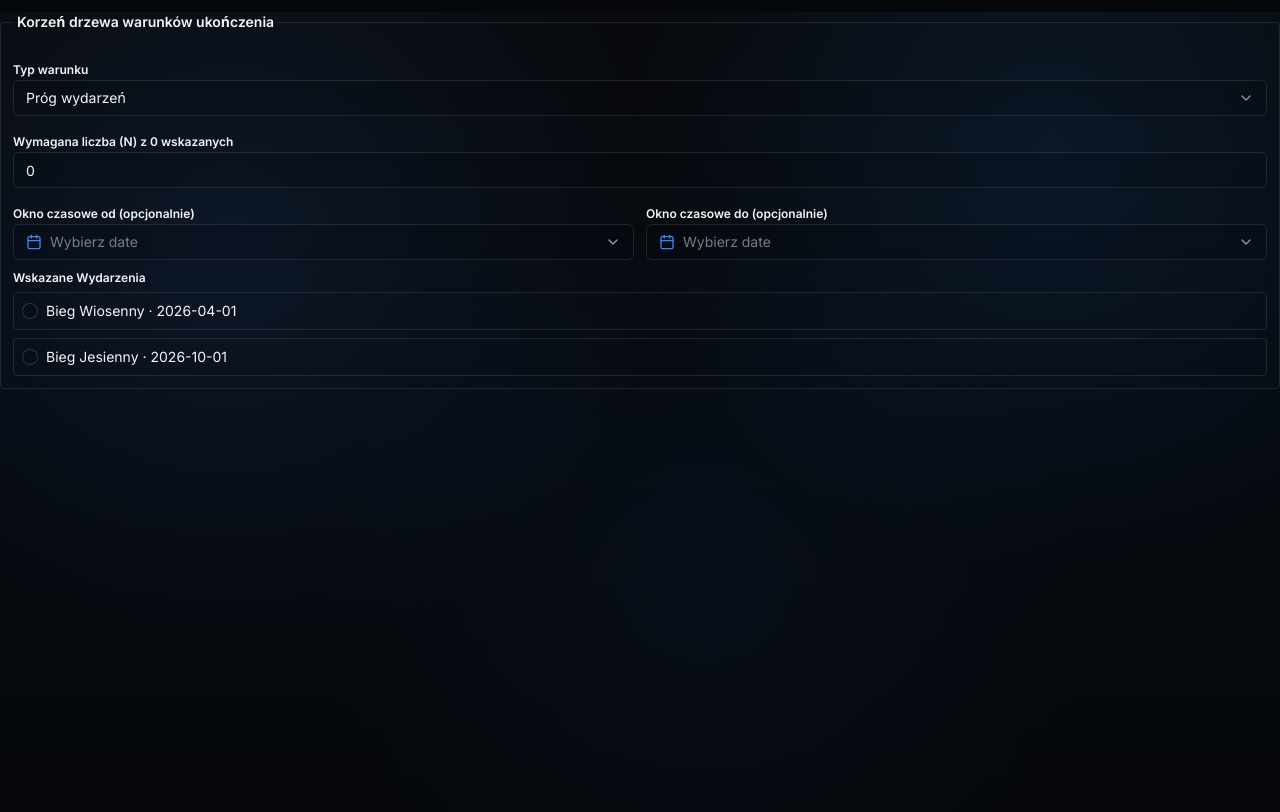
ChallengeConditionTreeEditor › switching node type to sub_challenge_threshold only offers already-saved challenges
Click the dropdown named "Typ warunku" at (76, 98), box top-left (13, 80), bottom-right (1267, 116)
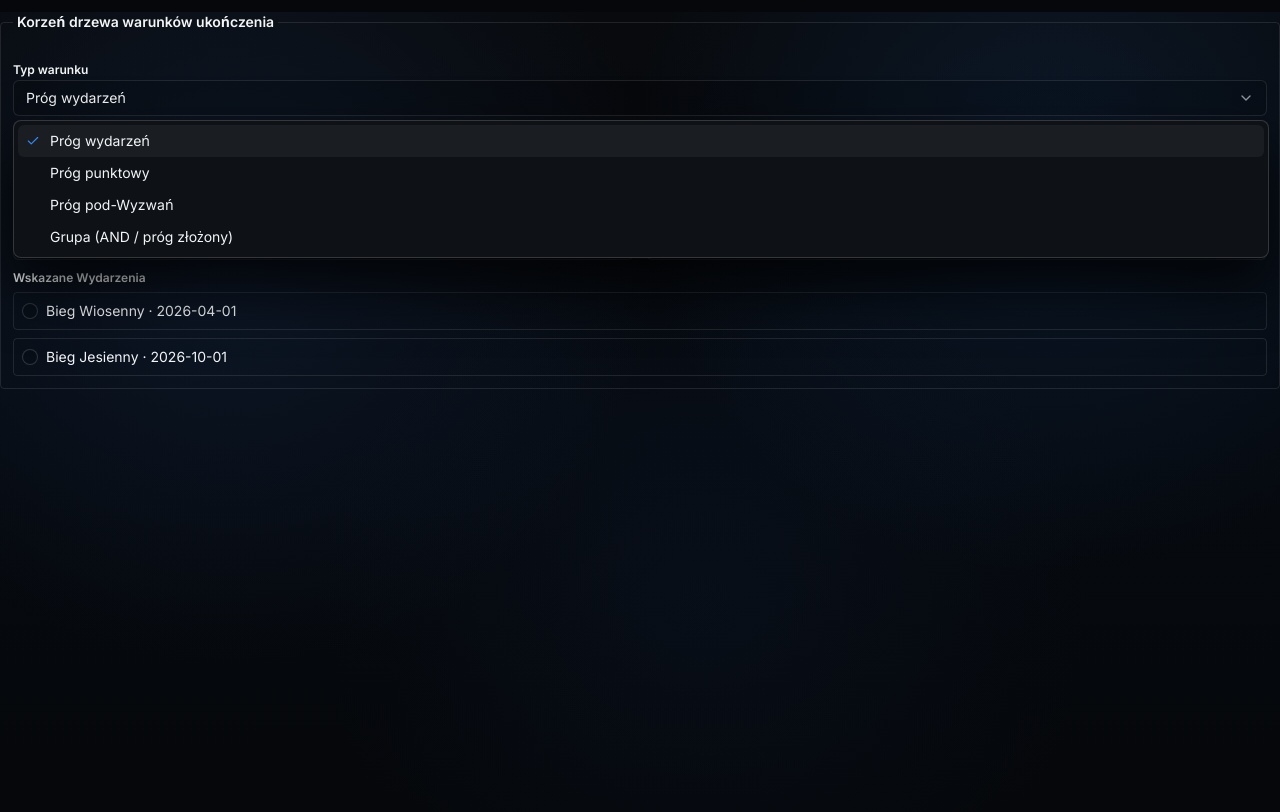
Click the option "Próg pod-Wyzwań" at (112, 204), box top-left (50, 196), bottom-right (174, 213)
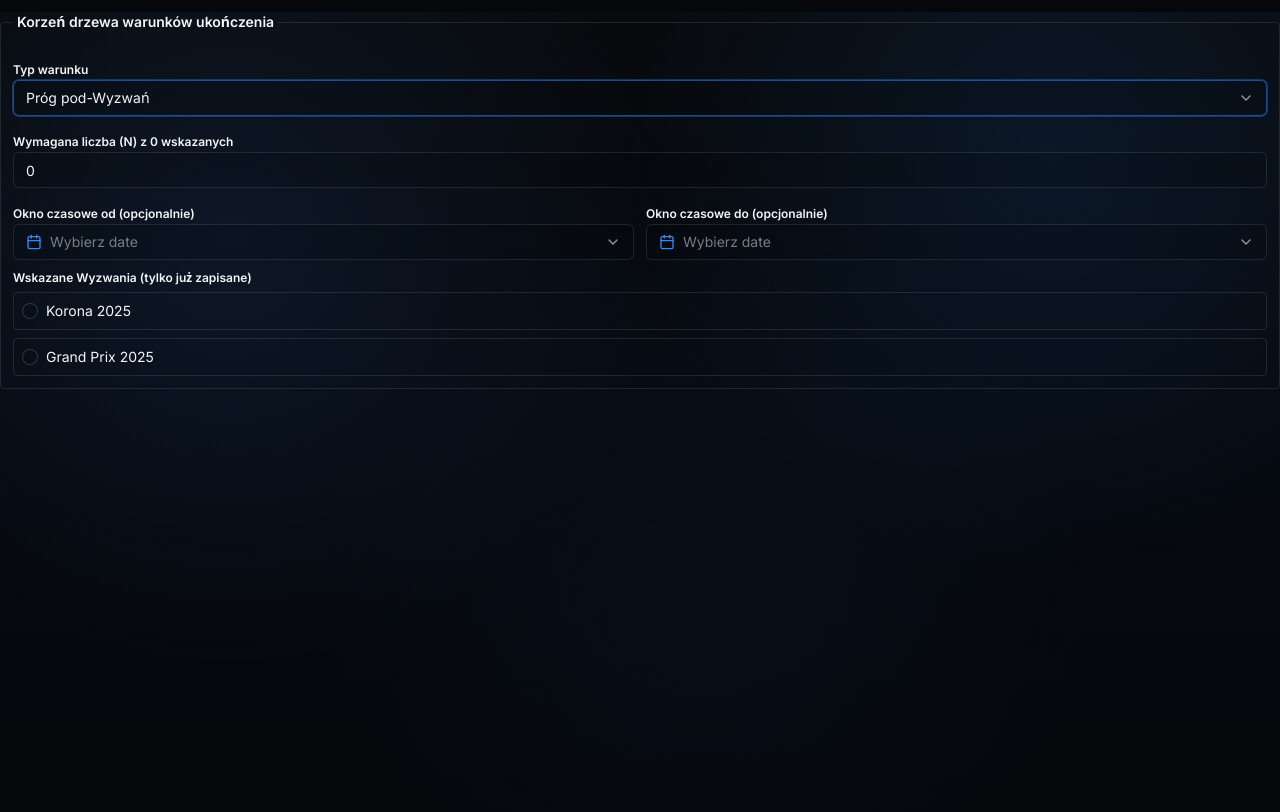
Check: the text "Korona 2025" is shown, box top-left (46, 301), bottom-right (131, 321)
Check: the text "Grand Prix 2025" is shown, box top-left (46, 347), bottom-right (154, 367)
Check: the text "Bieg Wiosenny · 2026-04-01" is gone
